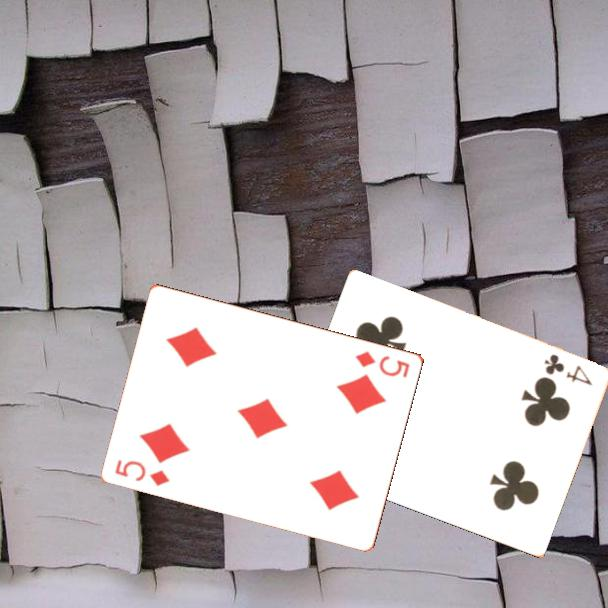c04: (540, 351, 595, 389)
d05: (112, 455, 173, 489), (352, 347, 413, 380)
